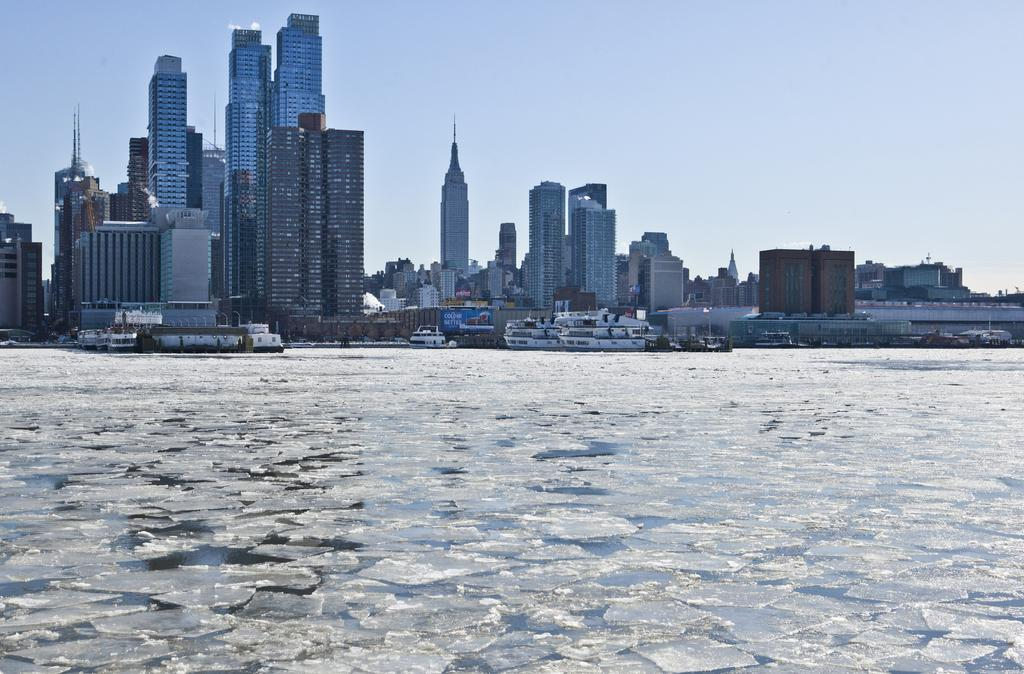PassengerShip: (557, 315, 647, 353), (501, 314, 581, 350), (106, 320, 140, 358), (404, 325, 454, 349), (752, 326, 794, 350)
